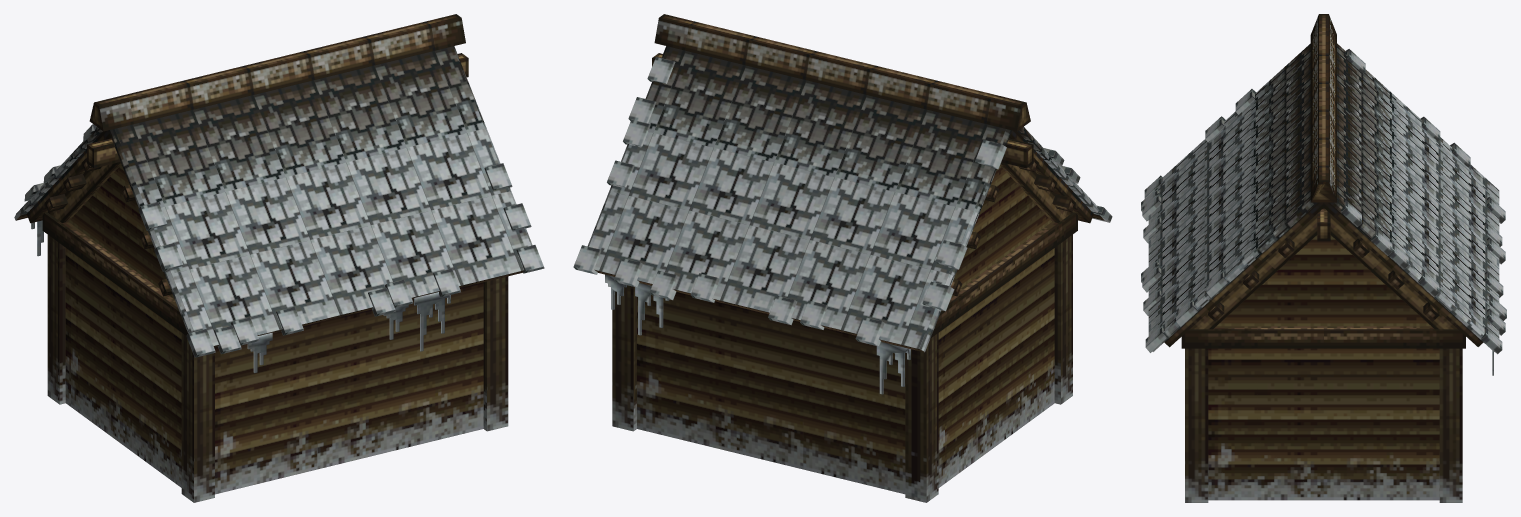
The model's file is EnvBdgMD_WoodHouse_A_Outdoor_House_B_Snow.FBX.
3 renders of one model, left to right at view 1: azimuth 30°, elevation 25°; view 2: azimuth 150°, elevation 25°; view 3: azimuth 270°, elevation 25°, orthographic. The views are drawn at different scales.
Visible parts, largest first — view 1: EnvBdgMD_WoodHouse_A_Outdoor_House_B_Snow; view 2: EnvBdgMD_WoodHouse_A_Outdoor_House_B_Snow; view 3: EnvBdgMD_WoodHouse_A_Outdoor_House_B_Snow.
Boxes of the visible parts, <box> form: EnvBdgMD_WoodHouse_A_Outdoor_House_B_Snow: <box>14,14,544,502</box>; EnvBdgMD_WoodHouse_A_Outdoor_House_B_Snow: <box>573,14,1112,502</box>; EnvBdgMD_WoodHouse_A_Outdoor_House_B_Snow: <box>1141,14,1506,502</box>.
Size of the model in its own units: 620 by 555 by 553.
Materials: 1 (1 with a texture image).
